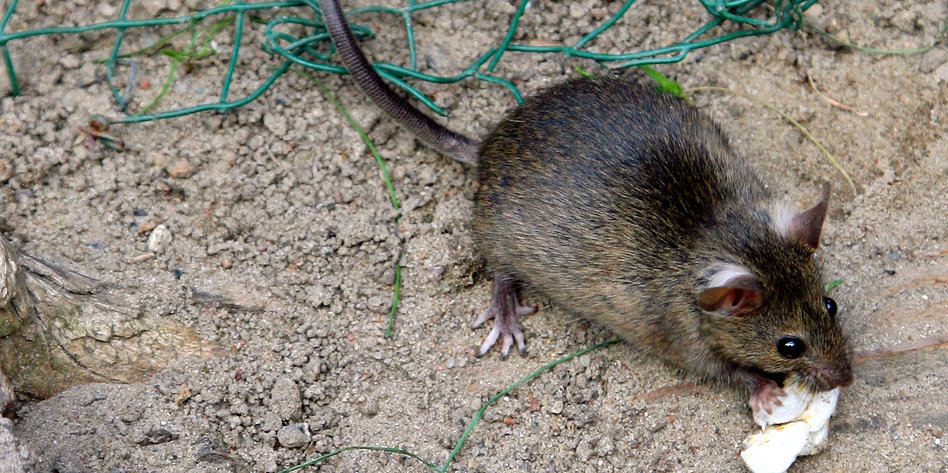rat: (455, 57, 868, 417)
